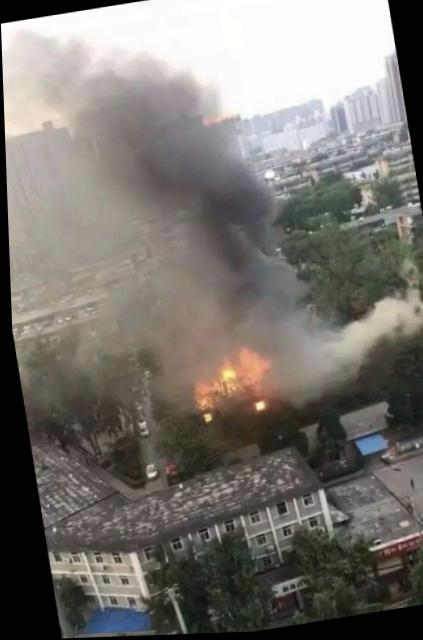fire: (181, 348, 278, 436)
